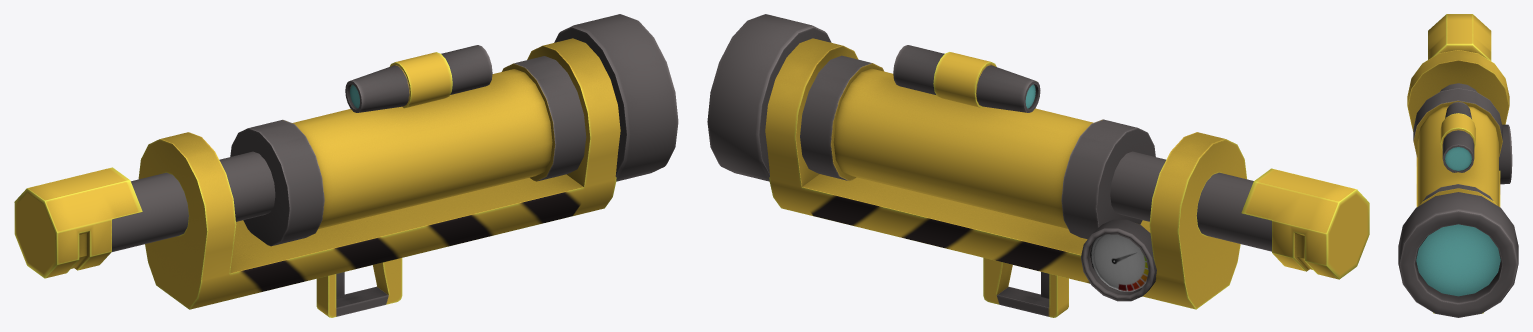
File: gun 2.fbx
The picture shows the model from 3 angles, left to right: view 1: azimuth 30°, elevation 25°; view 2: azimuth 150°, elevation 25°; view 3: azimuth 270°, elevation 25°; orthographic projection. The views are drawn at different scales.
Visible parts, largest first — view 1: body holder, body, gun back.001, scope.001, trigger.001; view 2: body holder, body, gun back.001, scope.001, meter, trigger.001; view 3: body holder, body, gun back.001, scope.001, meter.
Part boxes in pixels (bbox=[...]): body holder: bbox=[138, 14, 678, 309]; body: bbox=[230, 56, 586, 246]; gun back.001: bbox=[14, 151, 275, 278]; scope.001: bbox=[345, 45, 492, 112]; trigger.001: bbox=[316, 258, 402, 317]; body holder: bbox=[707, 14, 1246, 309]; body: bbox=[800, 55, 1155, 239]; gun back.001: bbox=[1110, 151, 1369, 279]; scope.001: bbox=[893, 45, 1040, 112]; meter: bbox=[1081, 219, 1156, 301]; trigger.001: bbox=[983, 257, 1068, 317]; body holder: bbox=[1398, 50, 1518, 317]; body: bbox=[1413, 88, 1502, 206]; gun back.001: bbox=[1428, 14, 1491, 92]; scope.001: bbox=[1440, 102, 1475, 172]; meter: bbox=[1499, 124, 1512, 184].
Size of the model in its own units: 0.8057 by 0.2962 by 0.1883.
